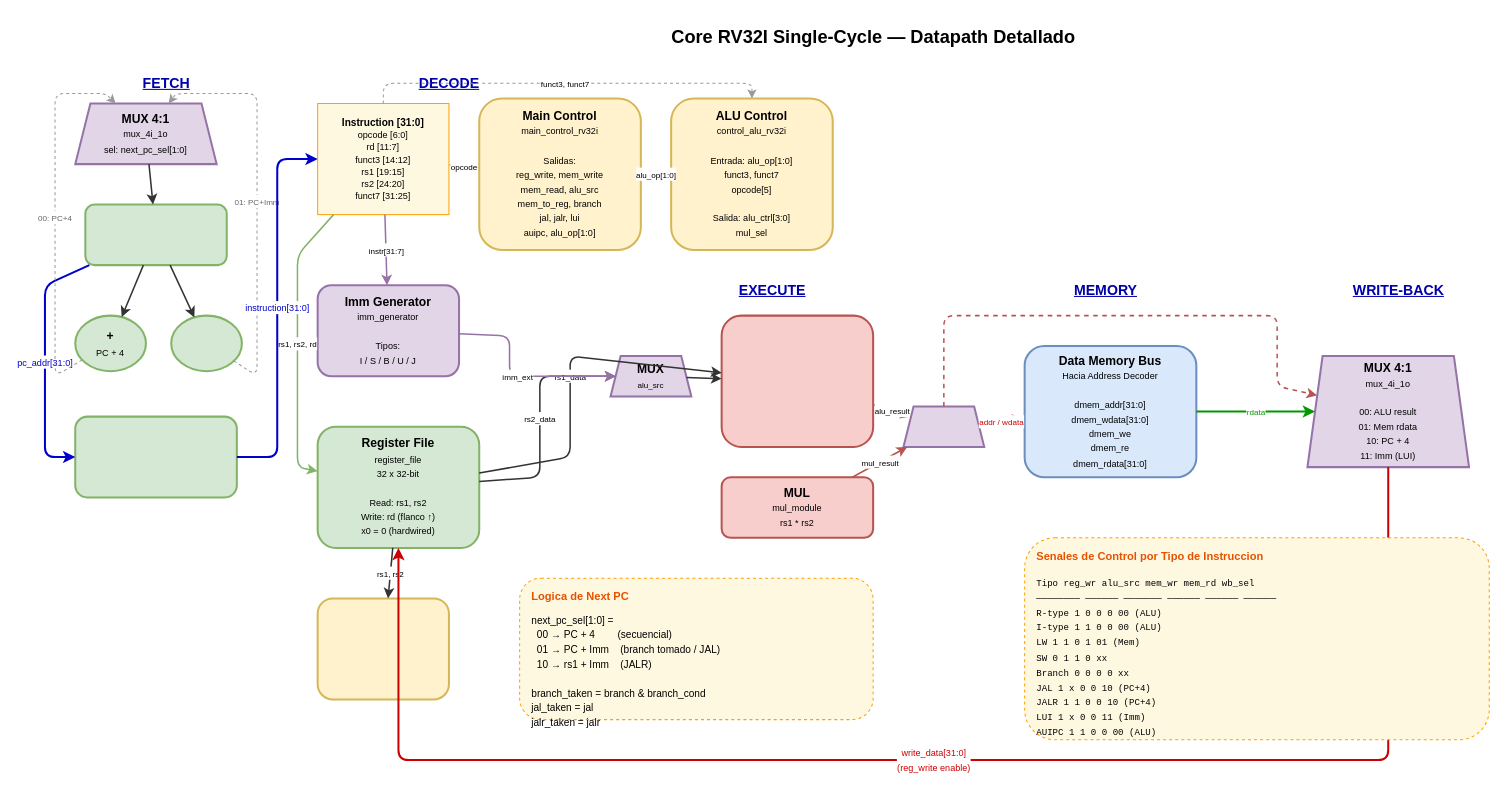
Image size: 1507x790. Some labels were removed from this diagram. The shapes that lost their labels are listed below. From the top down, each one's box as (x1, y1, x2, y2) in pixels, then its label:
(84, 203, 227, 266): PC program_counter RESET = 0x00400000
(170, 314, 242, 372): + PC + Imm
(720, 314, 874, 447): ALU alu_riscv_rv32i ADD, SUB, AND, OR, XOR, SLL, SRL, SRA, SLT, SLTU
(902, 405, 985, 447): MUX mul_sel
(74, 415, 237, 498): Instruction Memory rom_combinational_sc 64 x 32-bit (combinacional)
(316, 597, 449, 700): Branch Unit branch_unit BEQ, BNE, BLT, BGE, BLTU, BGEU
